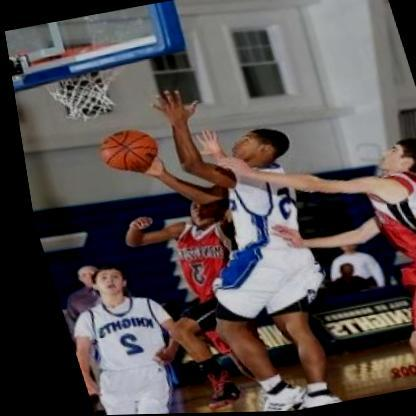basketball: (82, 116, 166, 184)
